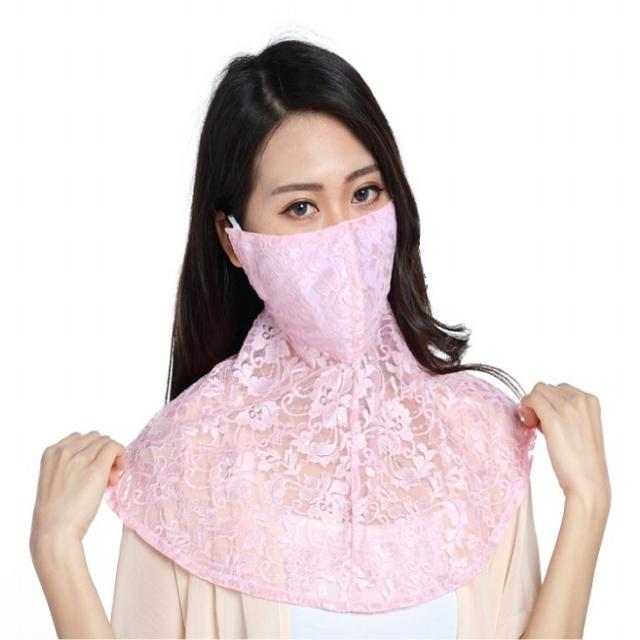mask: (251, 112, 395, 333)
